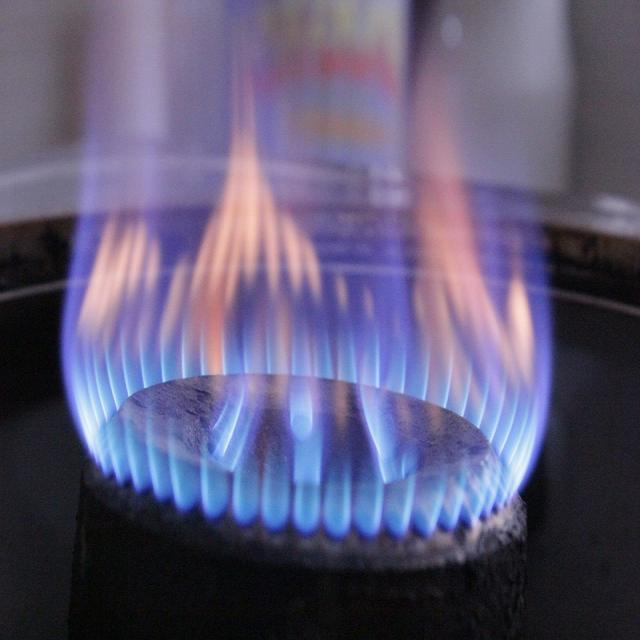Flame: (45, 30, 551, 554)
